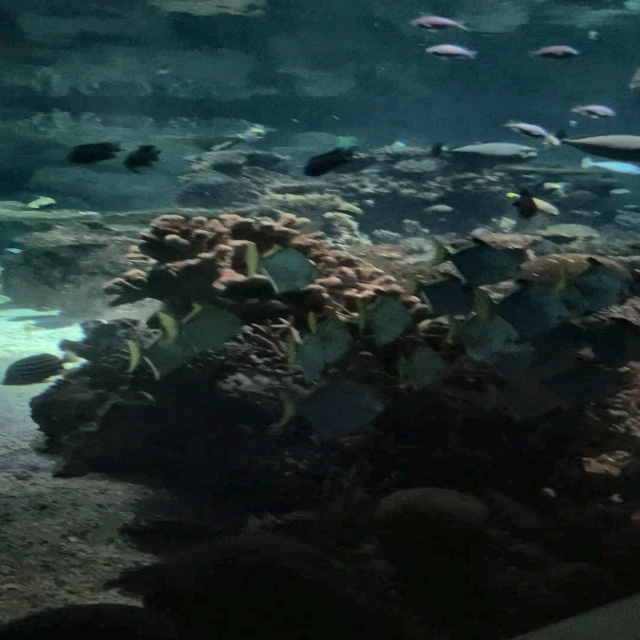fish: (265, 373, 392, 445), (475, 274, 580, 345), (421, 233, 526, 296), (181, 133, 293, 188), (548, 256, 638, 318), (437, 309, 528, 370), (157, 298, 249, 356), (239, 239, 325, 300), (548, 352, 627, 413), (488, 334, 579, 386), (121, 329, 207, 384), (483, 372, 573, 422), (345, 289, 416, 348), (404, 268, 482, 320), (2, 345, 76, 397), (429, 138, 546, 170), (63, 136, 154, 174), (580, 315, 639, 373), (395, 341, 457, 394), (306, 308, 356, 373), (281, 321, 328, 387), (549, 132, 639, 166), (211, 146, 291, 182), (306, 140, 373, 180), (498, 120, 569, 147), (423, 37, 482, 66), (505, 191, 563, 217), (405, 16, 473, 38), (121, 143, 166, 174), (526, 42, 585, 63), (578, 156, 639, 176), (571, 99, 619, 123), (511, 187, 535, 222), (233, 126, 269, 142), (153, 69, 171, 77), (330, 115, 343, 121), (290, 118, 301, 124)
